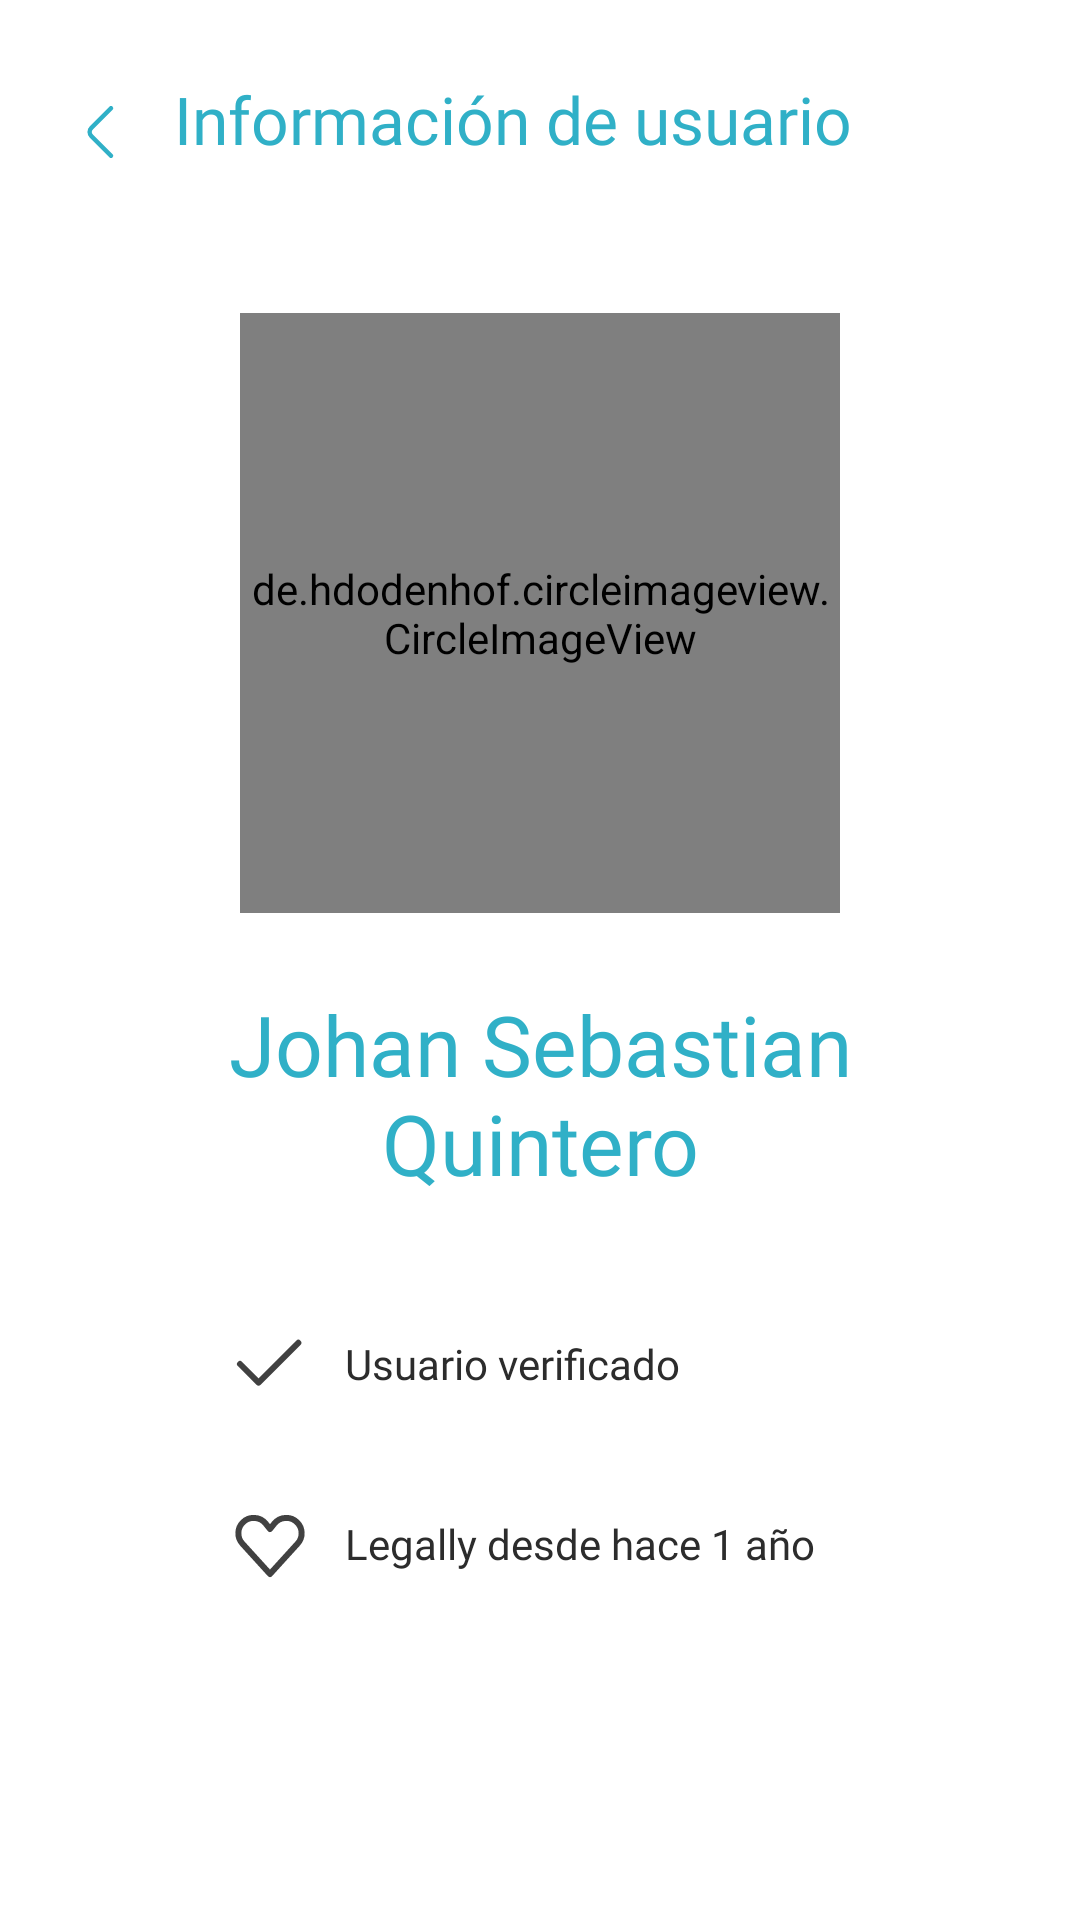

Icon bounding boxes for this 1080px×1920px phone screenshot, format (x1, y1, x2, y2):
Botón para regresar: (87, 106, 114, 158)
check: (237, 1339, 302, 1386)
heart: (235, 1515, 305, 1577)
